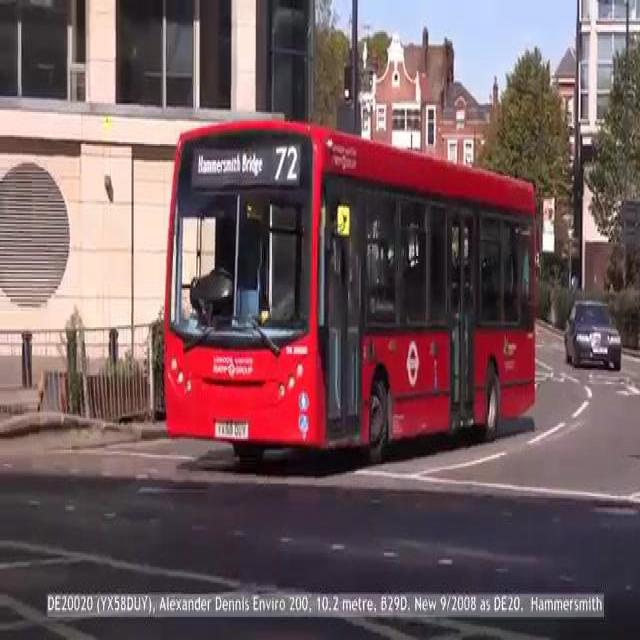motorcycle: (143, 123, 557, 455)
